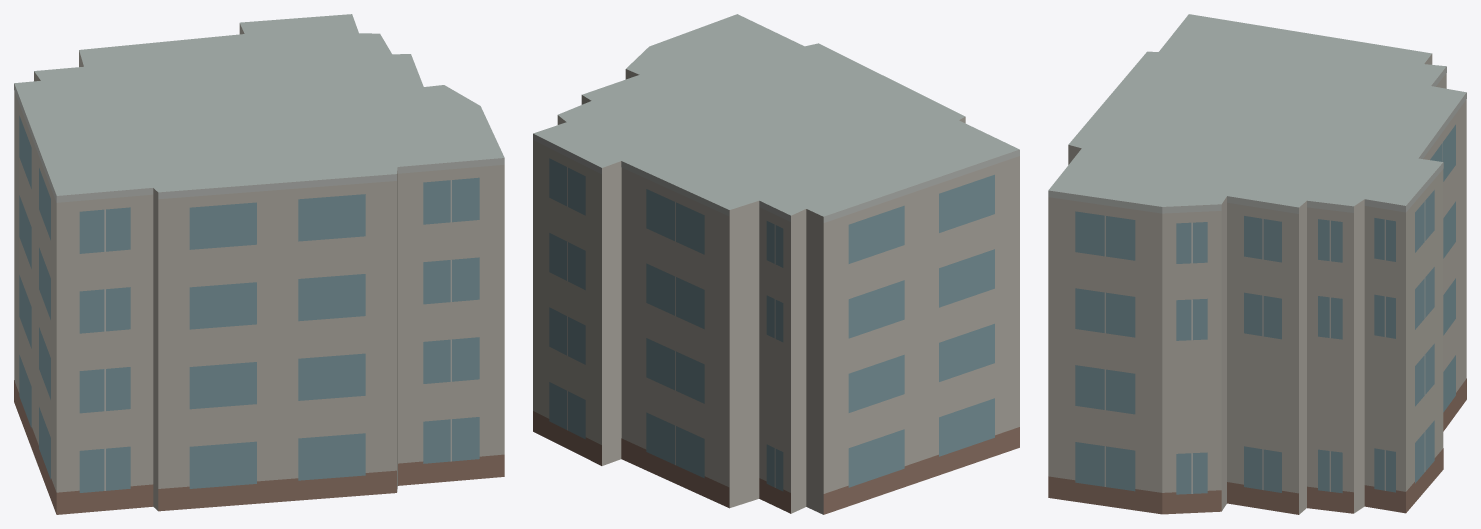
File: survey-upis-32708266.glb
3 views of the same model, side by side, from view 1: azimuth 30°, elevation 25°; view 2: azimuth 150°, elevation 25°; view 3: azimuth 270°, elevation 25° (orthographic). The views are drawn at different scales.
Visible parts, largest first — view 1: survey-upis-32708266.tmp; view 2: survey-upis-32708266.tmp; view 3: survey-upis-32708266.tmp.
Part boxes in pixels (x1,y1,x2,y2): survey-upis-32708266.tmp: (14, 14, 504, 514); survey-upis-32708266.tmp: (533, 14, 1019, 514); survey-upis-32708266.tmp: (1048, 14, 1466, 514).
Bounding box in the file's own units: 15.27 × 11.3 × 13.95.
